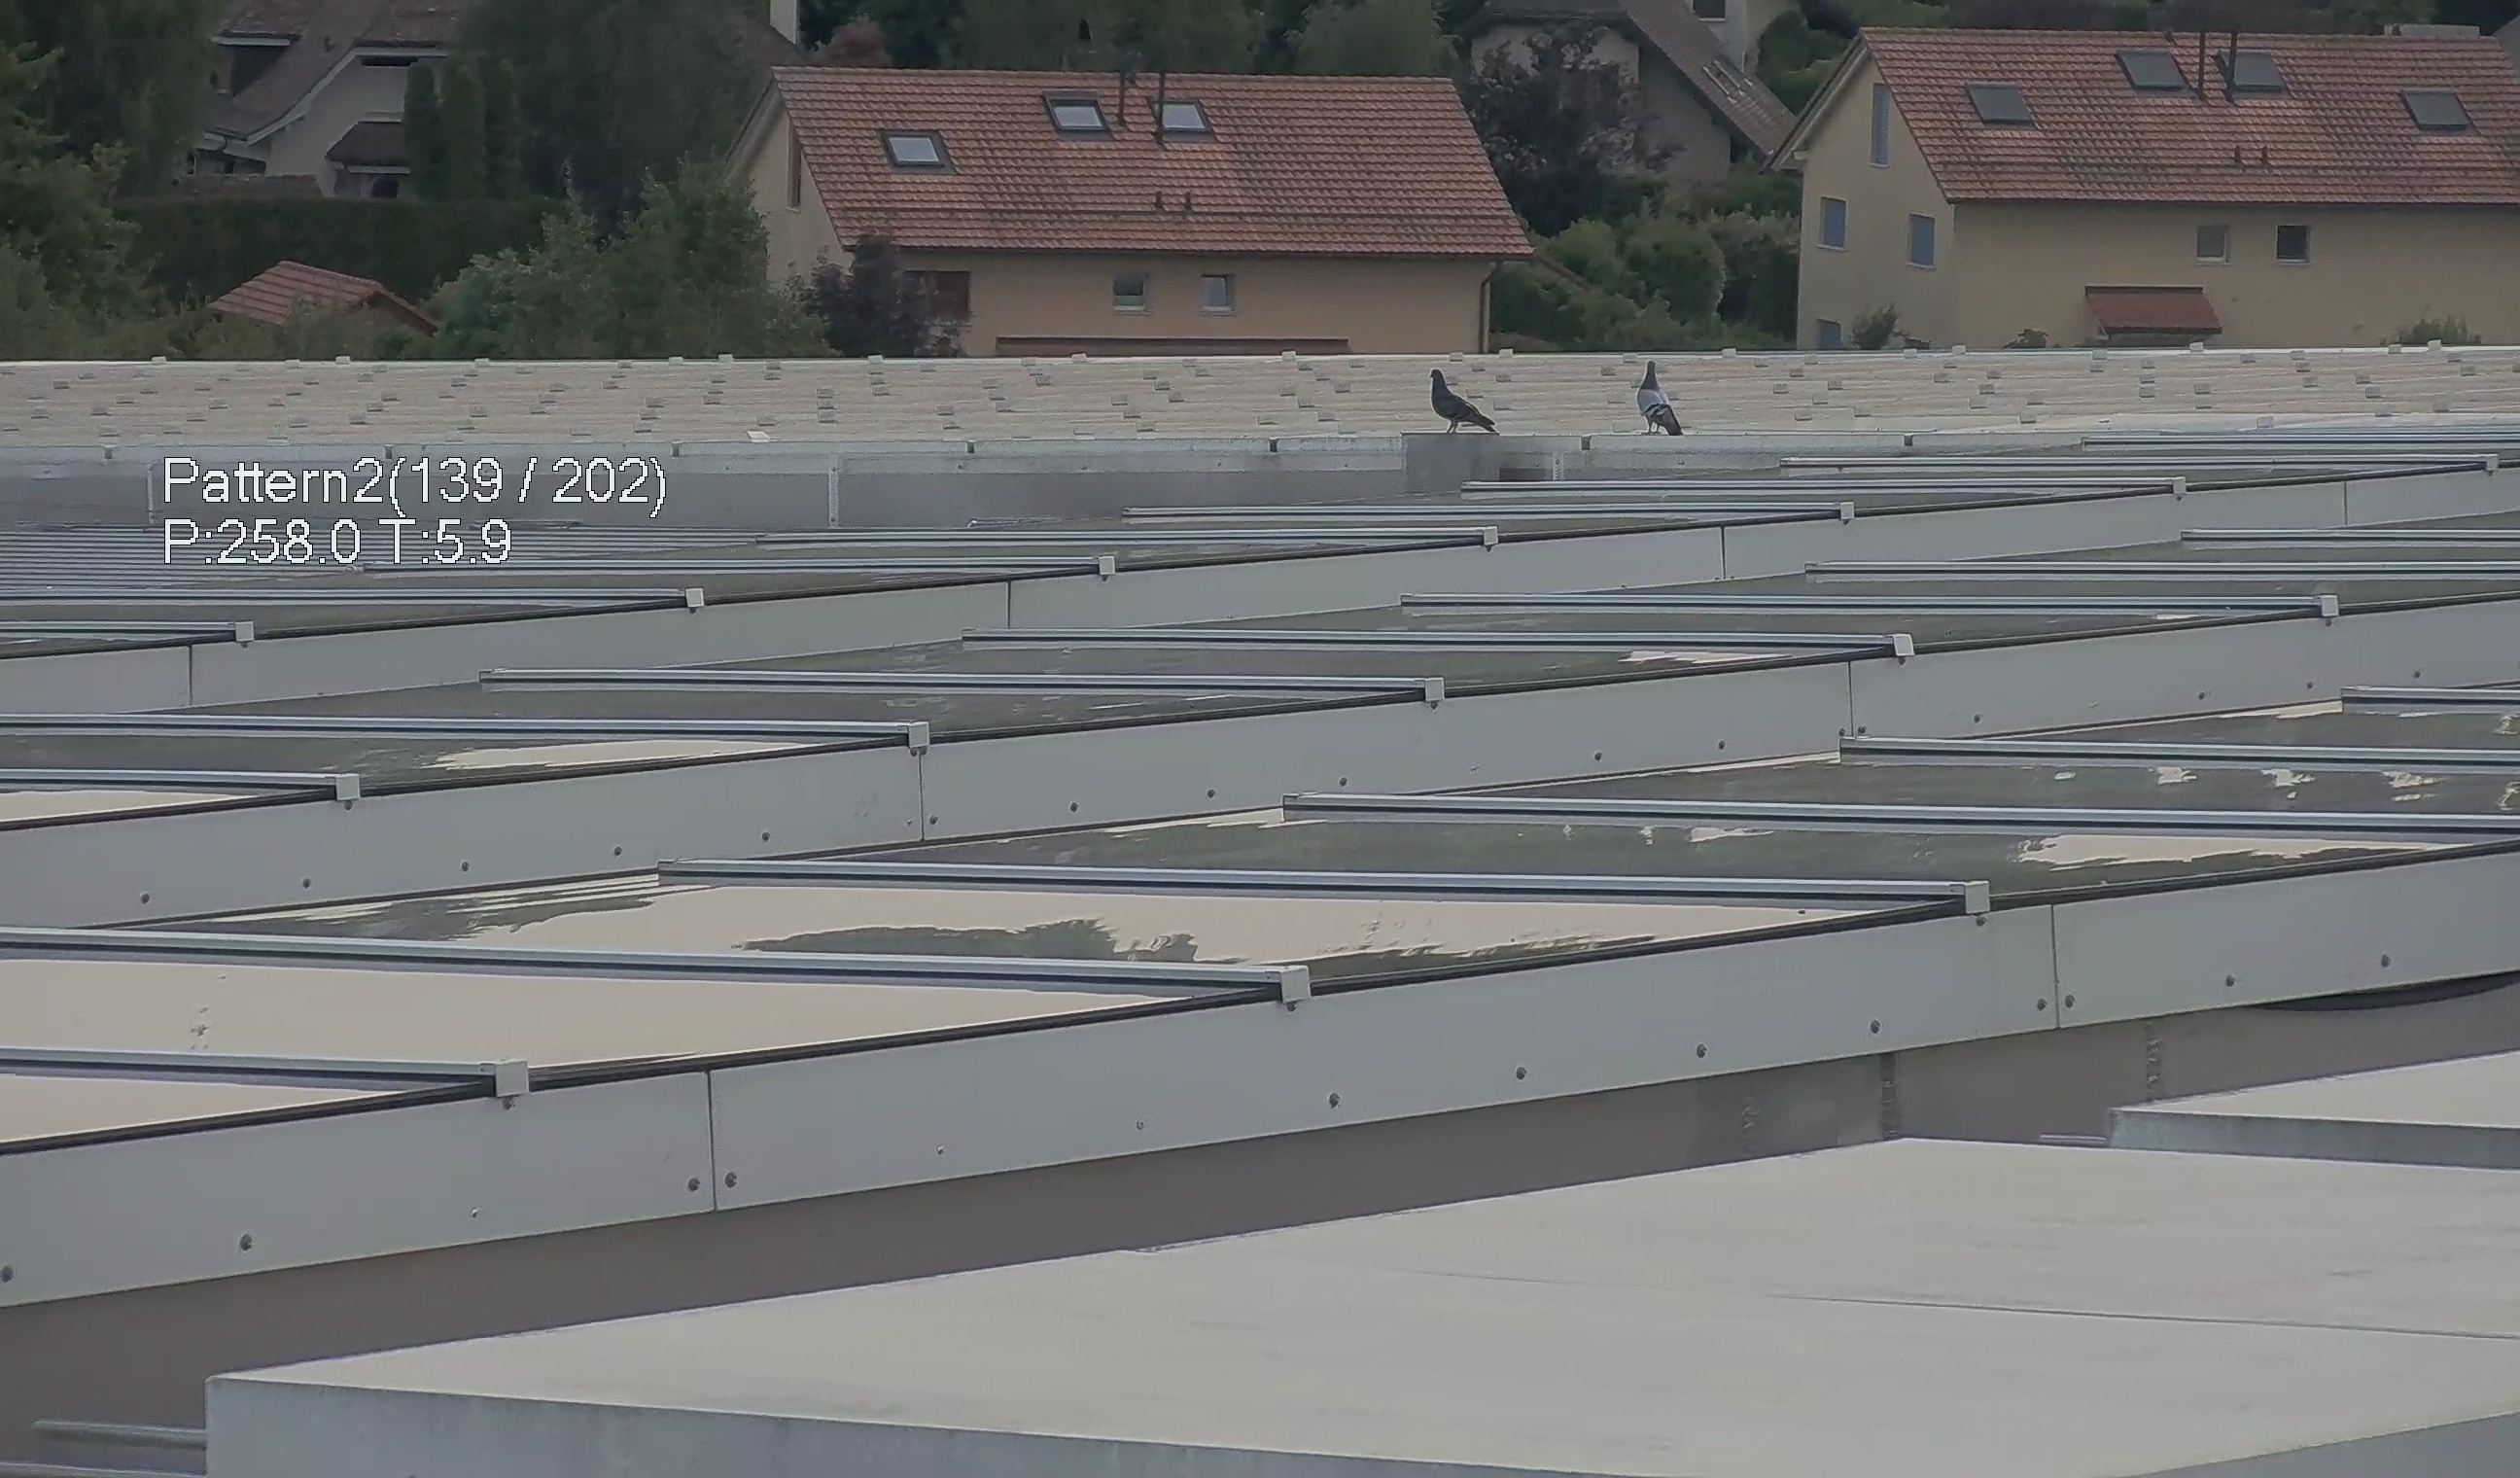Pigeon: (1423, 359, 1507, 440), (1630, 354, 1686, 442)
